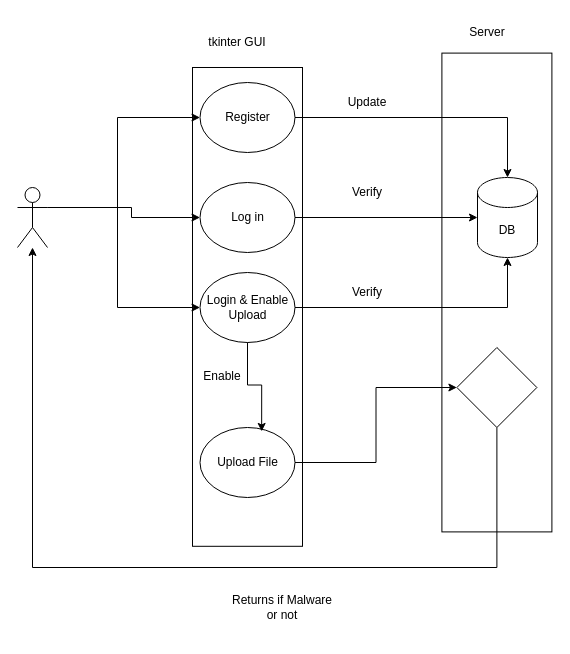
The diagram is 570 pixels wide and 654 high, and some of its shapes have lost their labels. The shapes that lost their labels are listed below. From the top down, each one's centre as x and y in pixels, then its label:
[32,217]: Client
[496,387]: Analyze
